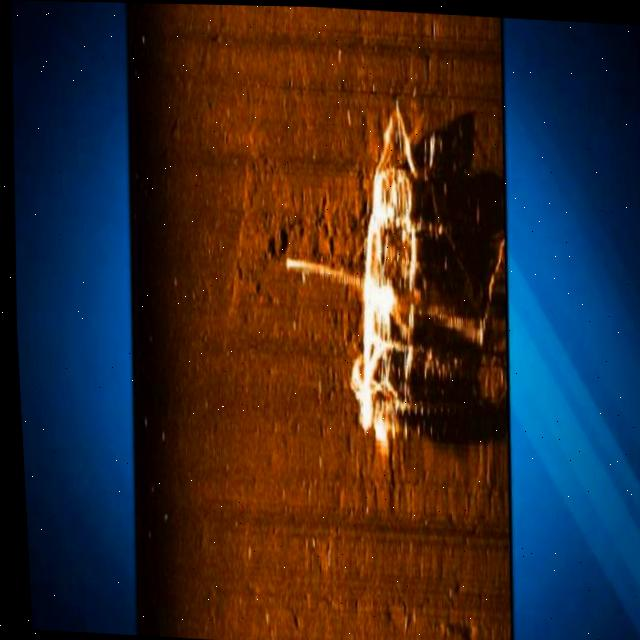shipwreck: (328, 89, 439, 454)
